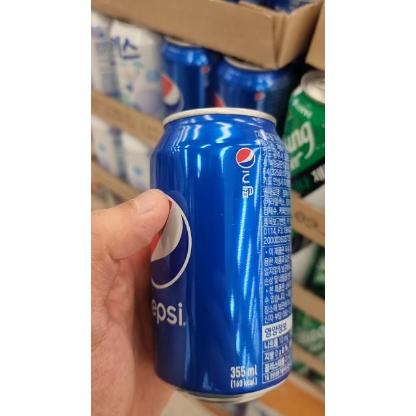Can: (149, 108, 293, 402)
